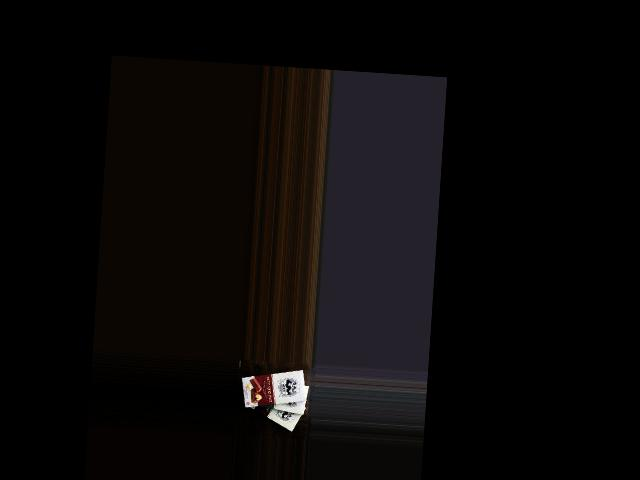chocolate: (238, 386, 308, 433)
